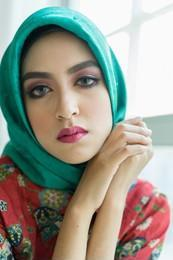face: (20, 35, 115, 163)
